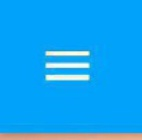ImgButton: (1, 1, 141, 139)
